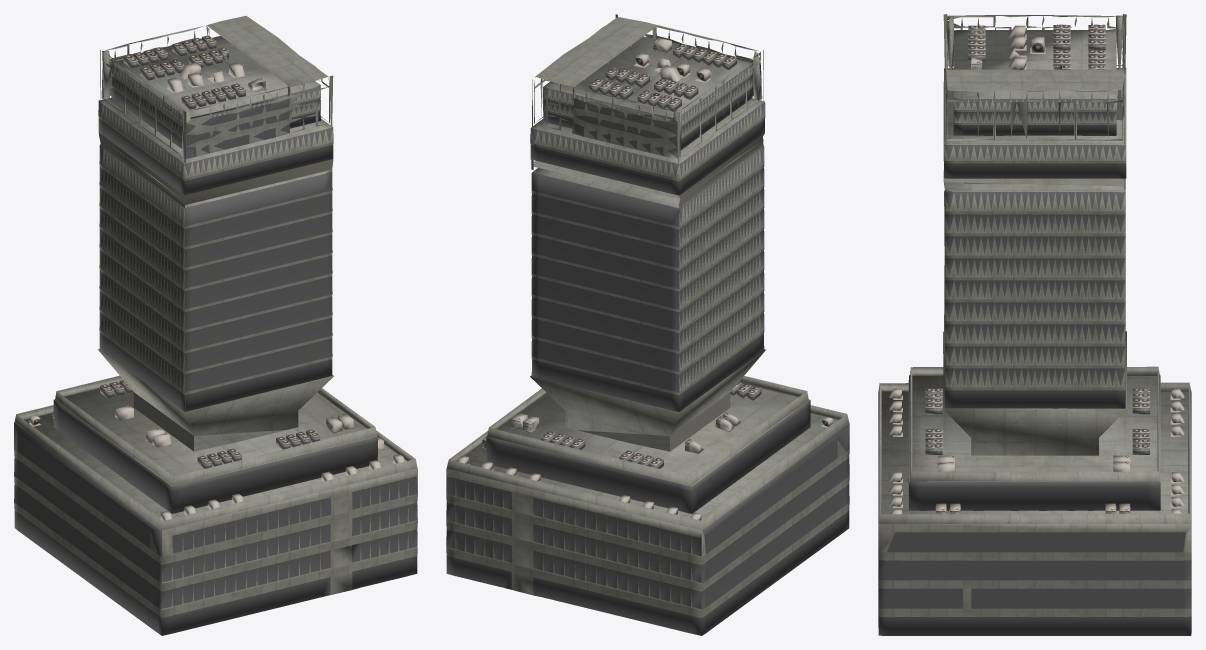
The model's file is Building 2.glb.
3 views of the same model, side by side, from view 1: azimuth 30°, elevation 25°; view 2: azimuth 150°, elevation 25°; view 3: azimuth 270°, elevation 25° (orthographic). The views are drawn at different scales.
Parts seen in each view (by area): view 1: HK Building 2; view 2: HK Building 2; view 3: HK Building 2.
Boxes of the visible parts, box(x1,y1,x2,y2) form: HK Building 2: box(14, 16, 417, 635); HK Building 2: box(446, 14, 849, 635); HK Building 2: box(878, 14, 1191, 635).
Size of the model in its own units: 35.07 by 64.09 by 35.08.
4 materials, 3 textured.
